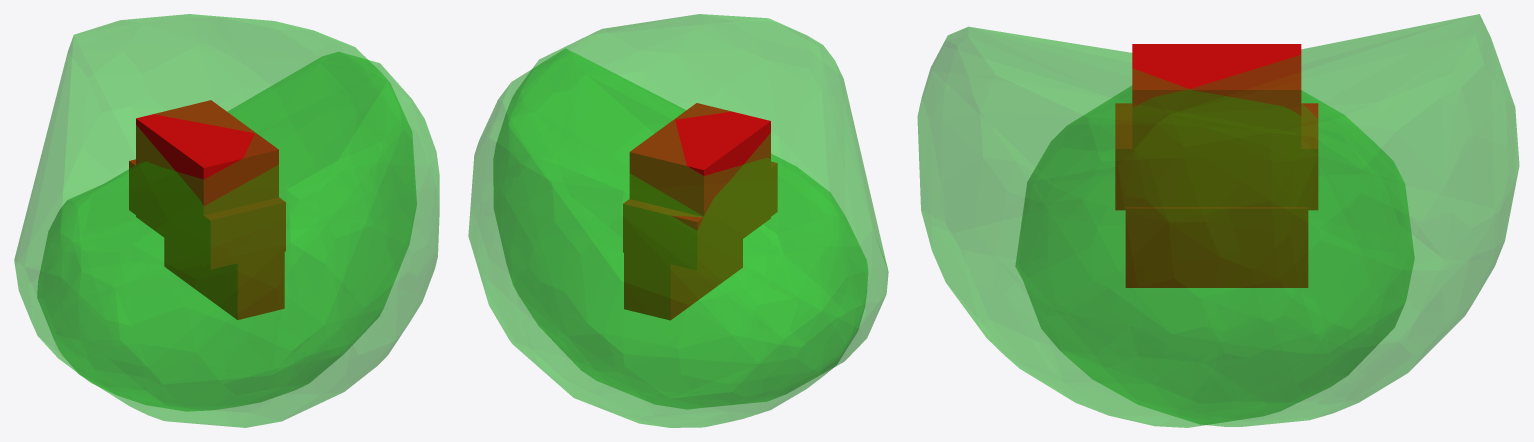
The model's file is talos_trunk_lower_visual.dae.
3 renders of one model, left to right at view 1: azimuth 30°, elevation 25°; view 2: azimuth 150°, elevation 25°; view 3: azimuth 270°, elevation 25°, orthographic. The views are drawn at different scales.
Visible parts, largest first — view 1: foo, foo_002, Talos_Trunk_Lower; view 2: foo_002, foo, Talos_Trunk_Lower; view 3: foo, foo_002, Talos_Trunk_Lower.
Part boxes in pixels (x1,y1,x2,y2): foo: (14,14,416,411); foo_002: (37,52,439,427); Talos_Trunk_Lower: (129,100,285,319); foo_002: (493,14,888,409); foo: (468,48,867,427); Talos_Trunk_Lower: (623,103,777,320); foo: (1015,14,1519,426); foo_002: (917,26,1414,427); Talos_Trunk_Lower: (1115,44,1318,287).
Bounding box in the file's own units: 1.49 × 1.78 × 1.26.
